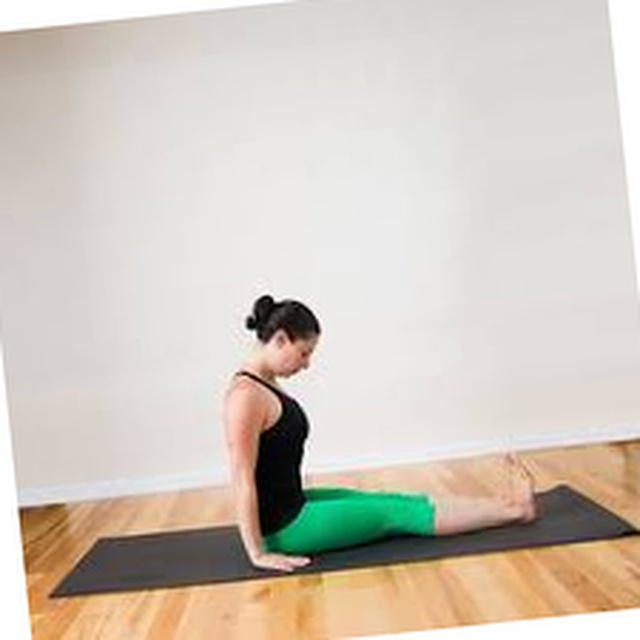Staff_Pose: (220, 292, 540, 575)
